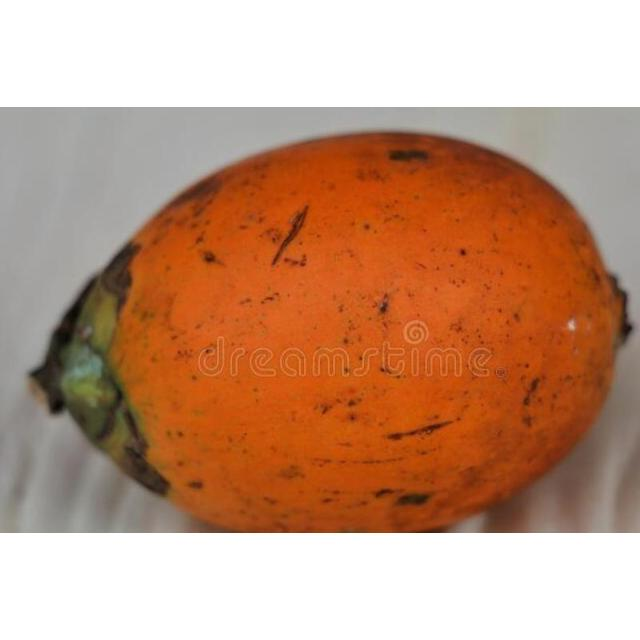good: (29, 131, 628, 533)
